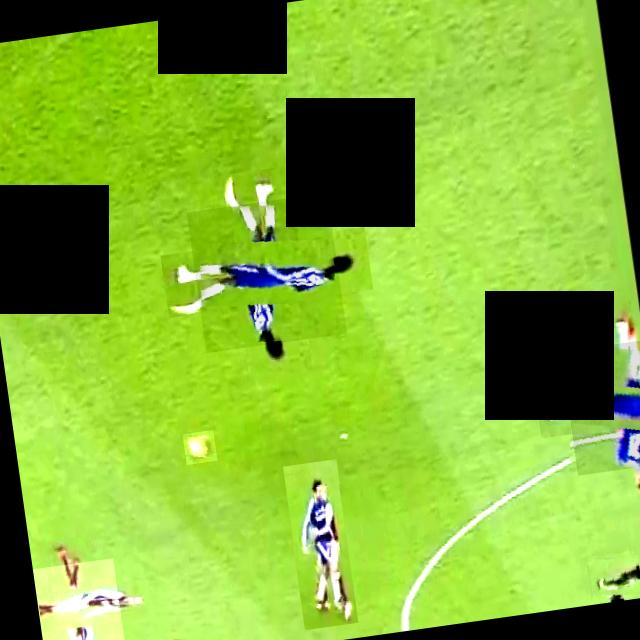ball: (182, 429, 216, 464)
referee: (586, 550, 640, 602)
soccer-player: (186, 192, 346, 352), (282, 458, 357, 629), (559, 339, 640, 475), (31, 557, 124, 640)
